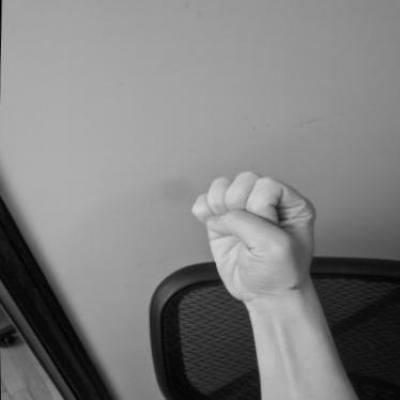hand: (184, 164, 322, 306)
